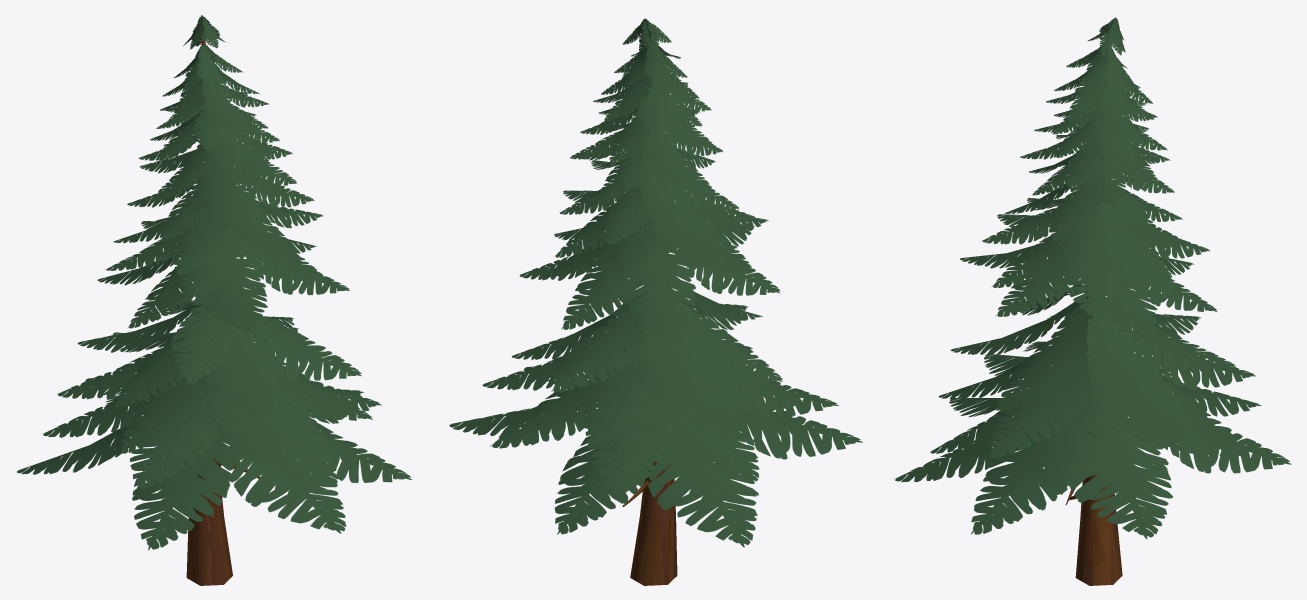
File: tree_pine_01.glb
3 renders of one model, left to right at view 1: azimuth 30°, elevation 25°; view 2: azimuth 150°, elevation 25°; view 3: azimuth 270°, elevation 25°, orthographic.
Parts seen in each view (by area): view 1: PineTree1; view 2: PineTree1; view 3: PineTree1.
Boxes of the visible parts, x1,y1,x2,y2 form: PineTree1: (16, 15, 412, 585); PineTree1: (449, 18, 862, 585); PineTree1: (895, 17, 1291, 585).
Bounding box in the file's own units: 8.37 × 12.85 × 8.33.
Materials: 2 (2 with a texture image).
